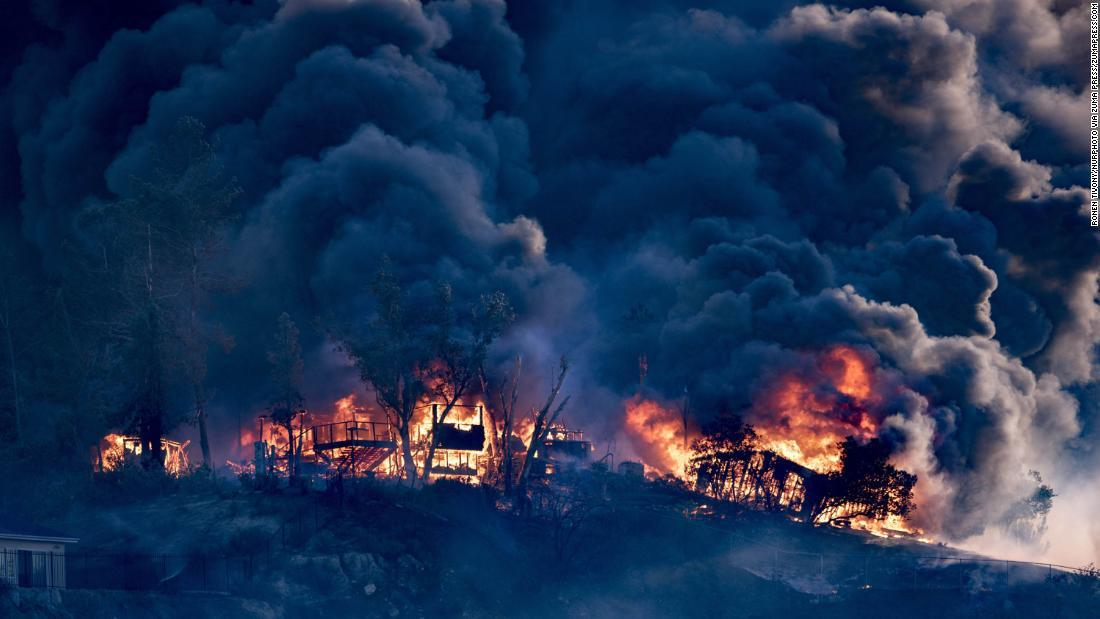Fire: (37, 265, 960, 547)
